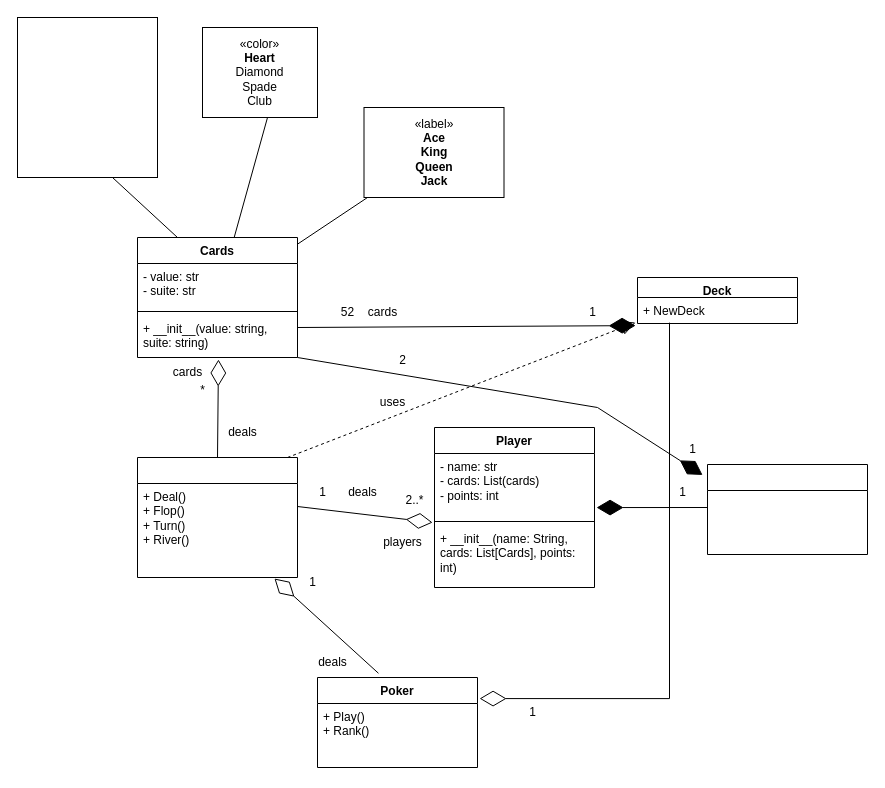
The diagram is 885 pixels wide and 788 high, and some of its shapes have lost their labels. Each missing label, with the box of its shape:
Dealer: (136, 456, 298, 578)
Hand: (706, 464, 868, 554)
«ranks» Straight Flush Quads Full House Flush Straight Set Two Pair Pair High: (16, 16, 158, 178)
